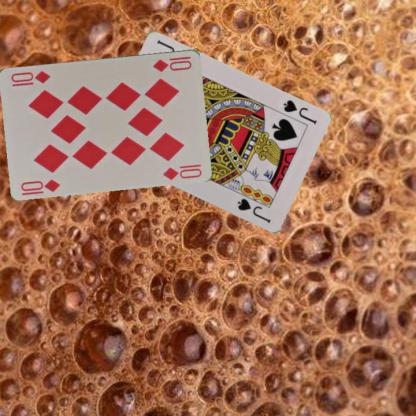10d: (150, 54, 193, 73), (19, 176, 62, 193)
Js: (280, 97, 317, 126)
